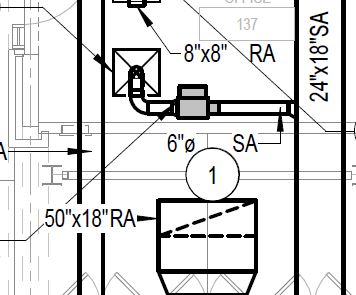VAV: (172, 70, 223, 127)
